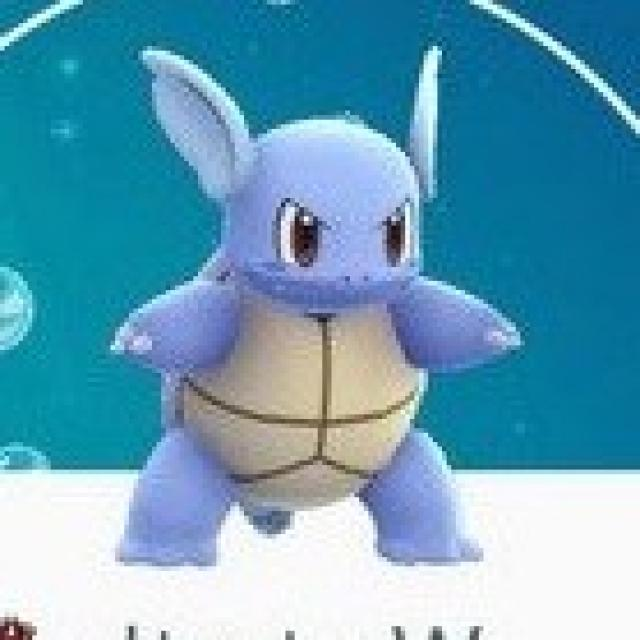Wartortle: (134, 45, 467, 566)
